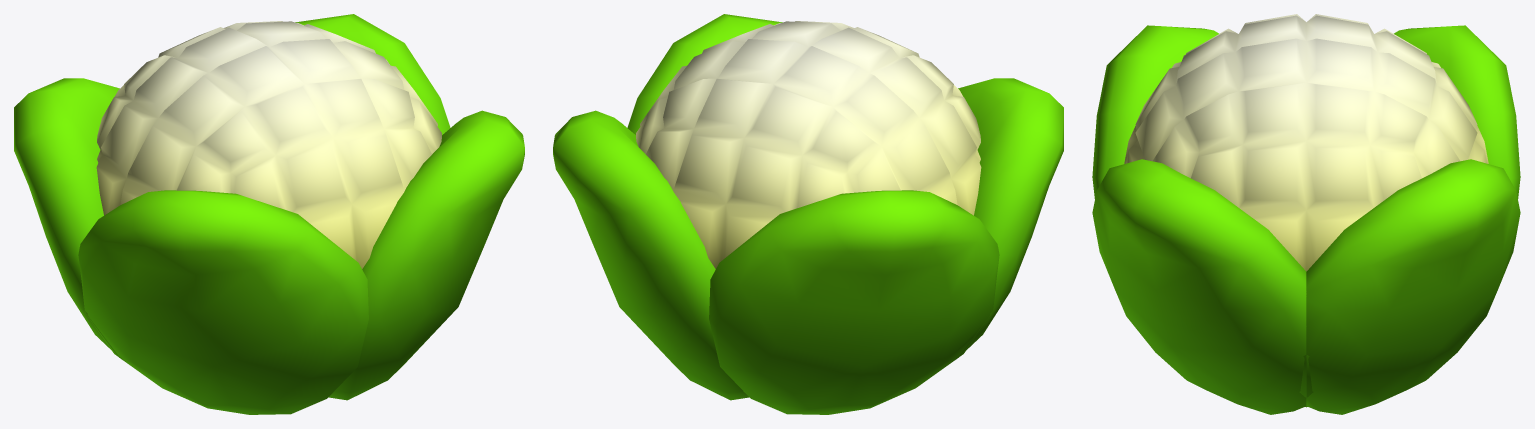
Rendered from Farm_Crop_Cauliflower_01.fbx.
3 renders of one model, left to right at view 1: azimuth 30°, elevation 25°; view 2: azimuth 150°, elevation 25°; view 3: azimuth 270°, elevation 25°, orthographic.
Parts seen in each view (by area): view 1: Farm_Crop_Cauliflower_01; view 2: Farm_Crop_Cauliflower_01; view 3: Farm_Crop_Cauliflower_01.
Part boxes in pixels (x1,y1,x2,y2): Farm_Crop_Cauliflower_01: (14, 14, 524, 414); Farm_Crop_Cauliflower_01: (553, 14, 1063, 414); Farm_Crop_Cauliflower_01: (1092, 14, 1520, 414).
Size of the model in its own units: 67.07 by 56.37 by 61.19.
